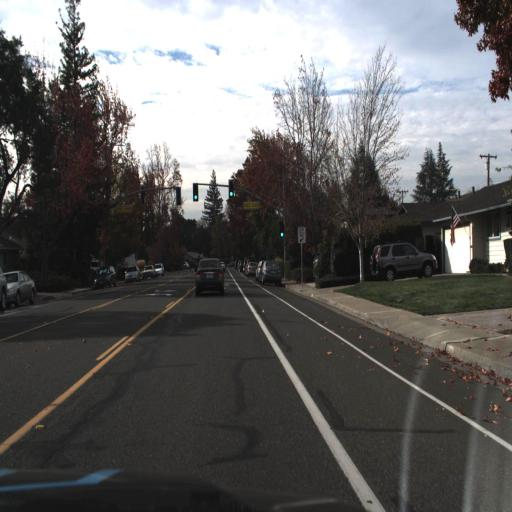car: (369, 241, 439, 282), (193, 254, 227, 300), (0, 270, 37, 312), (260, 254, 284, 287), (93, 263, 114, 291), (309, 249, 324, 283), (124, 265, 141, 284), (141, 262, 156, 281), (155, 262, 164, 276)
trafficLight-Green: (227, 177, 235, 200), (227, 178, 235, 197), (192, 180, 199, 201), (192, 182, 199, 203), (278, 220, 285, 240), (278, 220, 285, 239)
